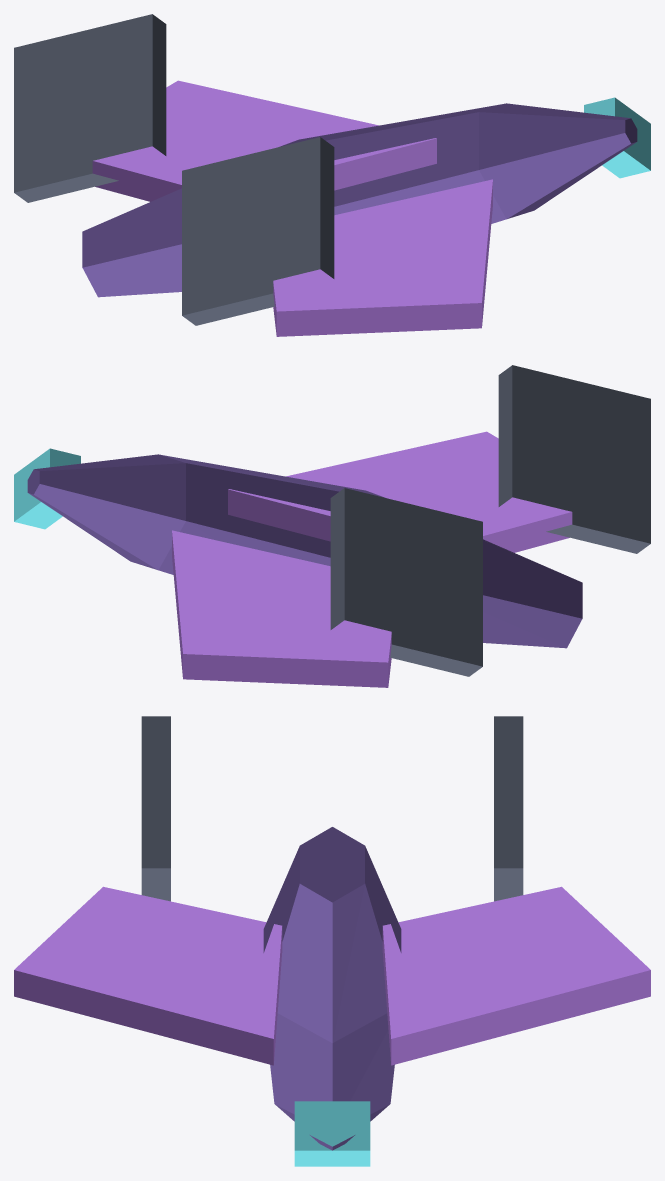
Rendered from patrol-drone-b.glb.
3 views of the same model, one above another, from view 1: azimuth 30°, elevation 25°; view 2: azimuth 150°, elevation 25°; view 3: azimuth 270°, elevation 25° (orthographic). The views are drawn at different scales.
Parts seen in each view (by area): view 1: rotors, arms, frame, eye; view 2: rotors, arms, frame, eye; view 3: arms, frame, rotors, eye.
Boxes of the visible parts, x1,y1,x2,y2 form: rotors: [14, 14, 334, 325]; arms: [92, 80, 492, 336]; frame: [82, 103, 637, 297]; eye: [584, 97, 650, 178]; rotors: [330, 365, 650, 676]; arms: [172, 431, 572, 687]; frame: [27, 454, 582, 648]; eye: [14, 448, 80, 529]; arms: [14, 886, 650, 1065]; frame: [263, 827, 401, 1150]; rotors: [141, 716, 523, 901]; eye: [294, 1101, 370, 1166].
Bounding box in the file's own units: 1.55 × 0.6 × 1.52.
